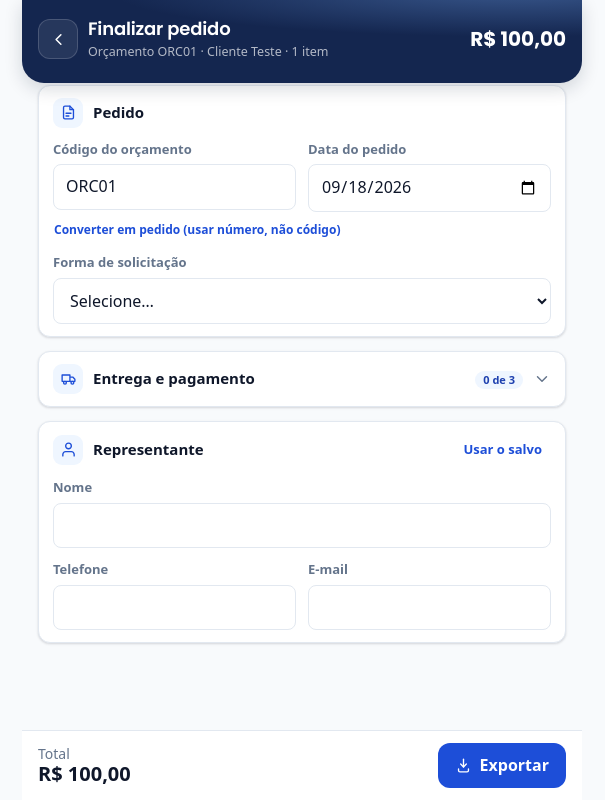
it: fluxo do pedido › Orçamento salvo: reabre sem pendência de número, exporta, e converte de volta em pedido
Check: the heading "Finalizar pedido" is shown, box [88,16,230,41]
Check: the field labelled "Código do orçamento" holds "ORC01", box [53,164,296,210]
Click the button "Converter em pedido (usar número, não código)": (197, 229) [53,218,342,241]
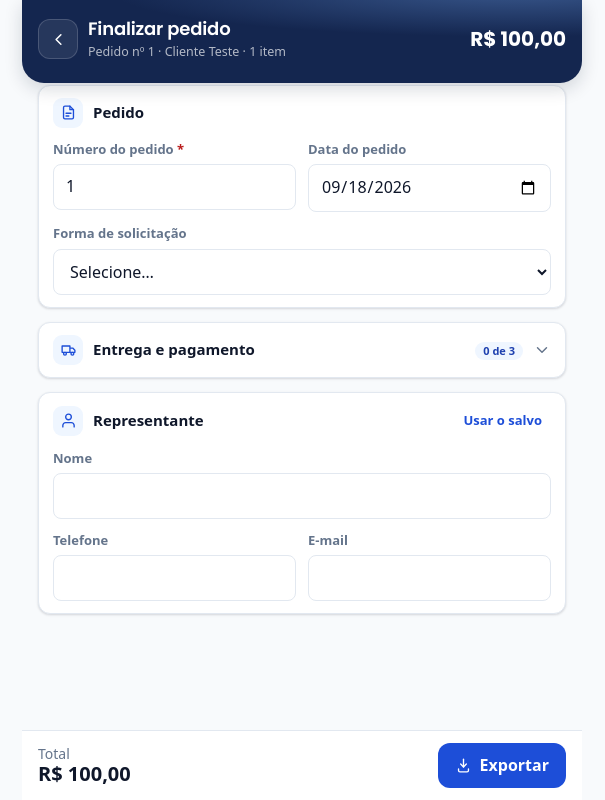
Check: the label labelled "Código do orçamento" is gone
Check: the number field labelled "Número do pedido *" holds "1", box [53,164,296,210]
